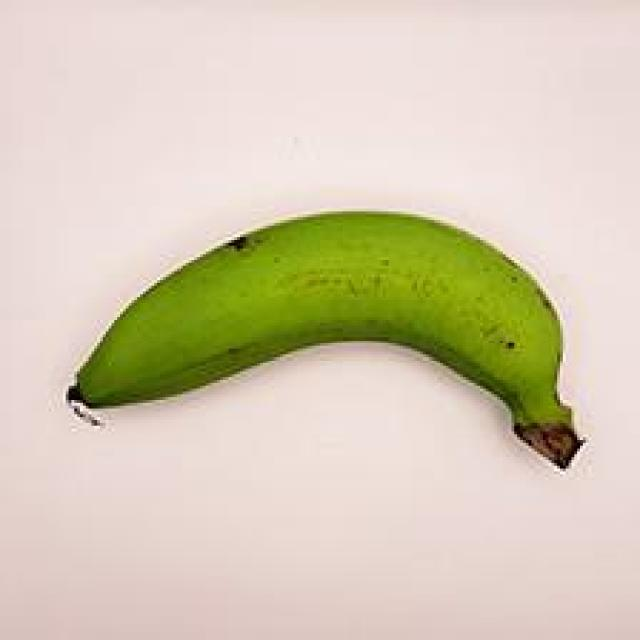Raw: (41, 179, 608, 505)
